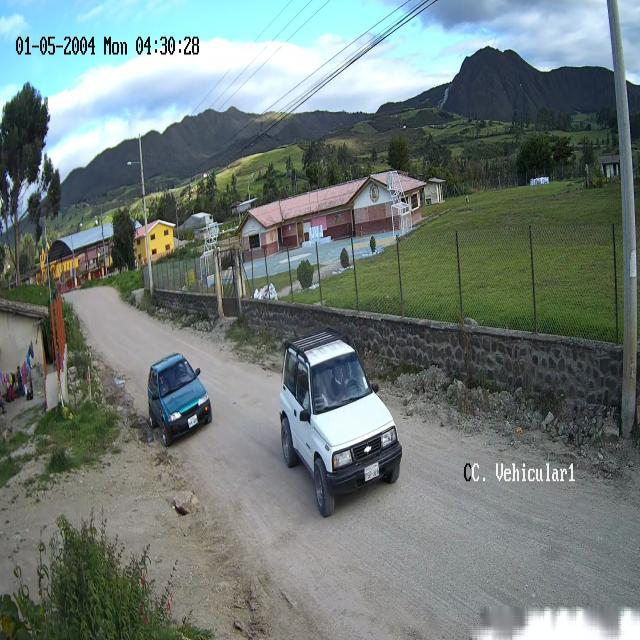SED: (147, 353, 212, 448)
SUV: (278, 332, 402, 518)
